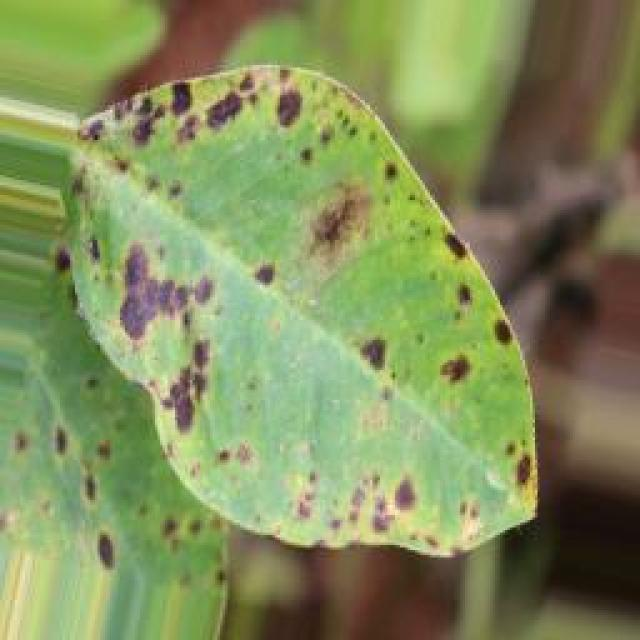Yellowish: (1, 60, 561, 582)
